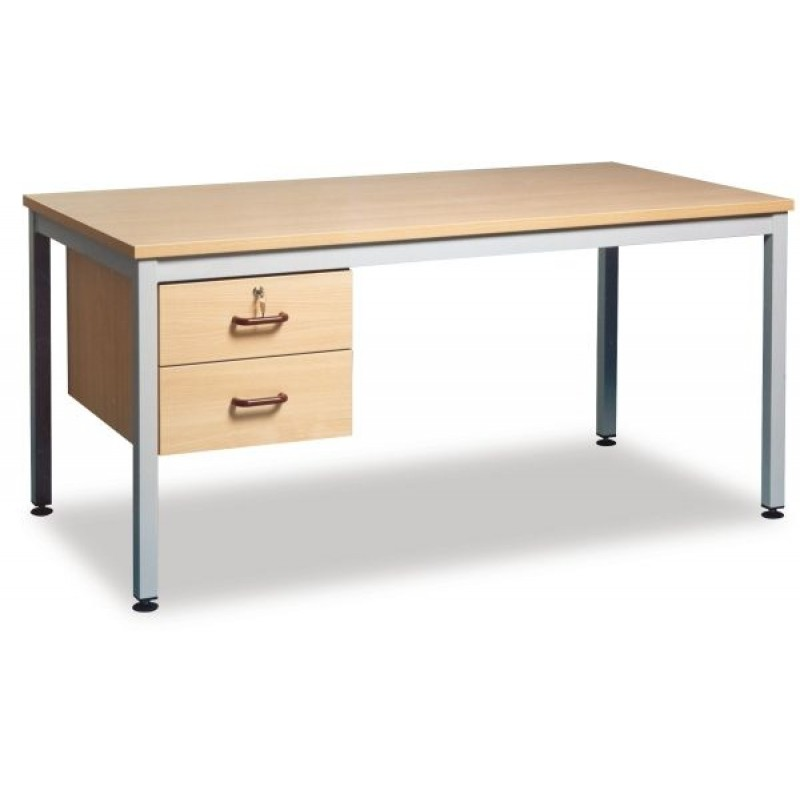desk: (10, 125, 798, 625)
